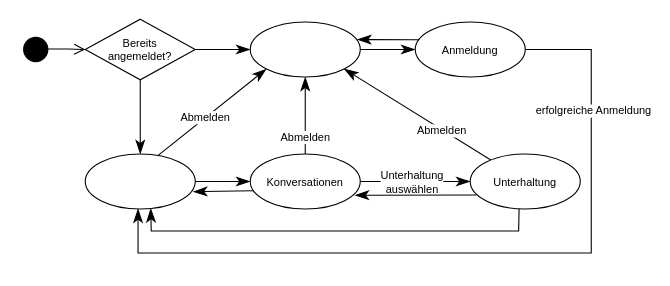
Image size: 670x286. Some labels were removed from this diagram. The centre of each missing label's shape, as x and y in pixels:
"Profil" belongs at point 139,181.
"Startseite" belongs at point 304,49.
